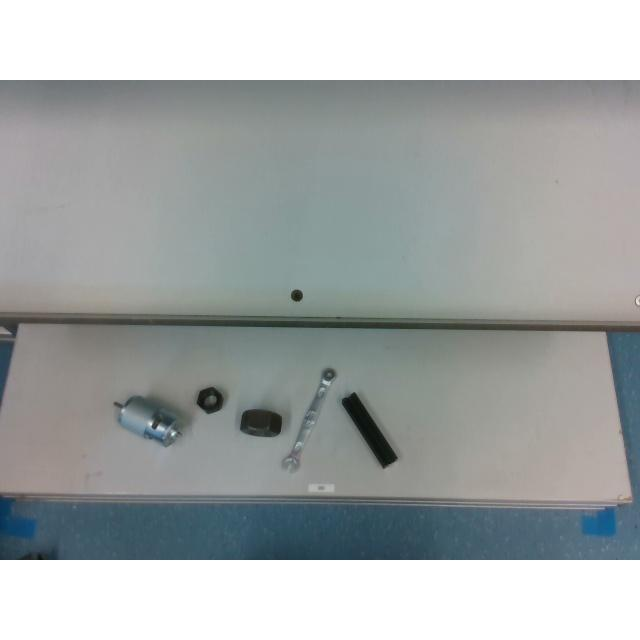F20_20_B: (341, 393, 397, 467)
M20: (196, 387, 224, 413)
M30: (240, 408, 280, 436)
Motor2: (116, 394, 180, 446)
Wrench: (280, 368, 336, 472)
